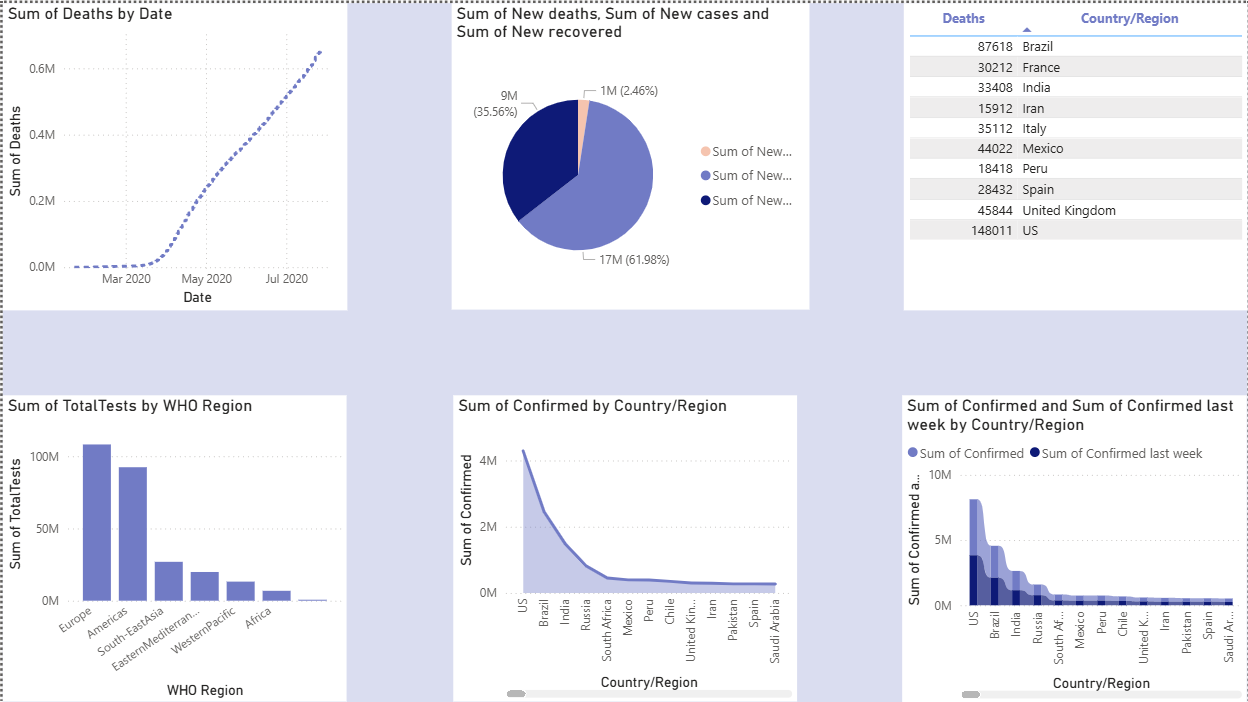

What the dashboard file says about the page in this screenshot:
{"tool":"powerbi","page":{"name":"Page 1","canvas":[1280,720],"ordinal":0},"visuals":[{"type":"lineChart","fields":{"Category":["covid_19_clean_complete.Date"],"Y":["Sum(covid_19_clean_complete.Deaths)"]},"box":[0,0,354,315.6],"z":0},{"type":"pieChart","fields":{"Y":["Sum(day_wise.New deaths)","Sum(day_wise.New cases)","Sum(day_wise.New recovered)"]},"box":[462.2,0,368.1,315.5],"z":1000},{"type":"tableEx","fields":{"Values":["country_wise_latest.Deaths","country_wise_latest.Country/Region"]},"box":[926.2,0,354,315.6],"z":2000},{"type":"columnChart","fields":{"Category":["worldometer_data.WHO Region"],"Y":["Sum(worldometer_data.TotalTests)"]},"box":[0,403.8,353.8,316.2],"z":3000},{"type":"areaChart","fields":{"Y":["Sum(country_wise_latest.Confirmed)"],"Category":["country_wise_latest.Country/Region"]},"box":[462.5,403.8,353.8,316.2],"z":4000},{"type":"ribbonChart","fields":{"Category":["country_wise_latest.Country/Region"],"Y":["Sum(country_wise_latest.Confirmed)","Sum(country_wise_latest.Confirmed last week)"]},"box":[925.7,403.5,354.6,316.7],"z":5000}]}

Visuals, with their boxes in screenshot pixels (x1, y1, x2, y2), scaled from the page's 1280x720 canvas onto the 1248x702 screenshot:
lineChart - covid_19_clean_complete.Date x Sum(covid_19_clean_complete.Deaths): l=0, t=0, r=345, b=308
pieChart - Sum(day_wise.New deaths) x Sum(day_wise.New cases): l=451, t=0, r=810, b=308
tableEx - country_wise_latest.Deaths x country_wise_latest.Country/Region: l=903, t=0, r=1247, b=308
columnChart - worldometer_data.WHO Region x Sum(worldometer_data.TotalTests): l=0, t=394, r=345, b=701
areaChart - Sum(country_wise_latest.Confirmed) x country_wise_latest.Country/Region: l=451, t=394, r=796, b=701
ribbonChart - country_wise_latest.Country/Region x Sum(country_wise_latest.Confirmed): l=903, t=393, r=1247, b=701
